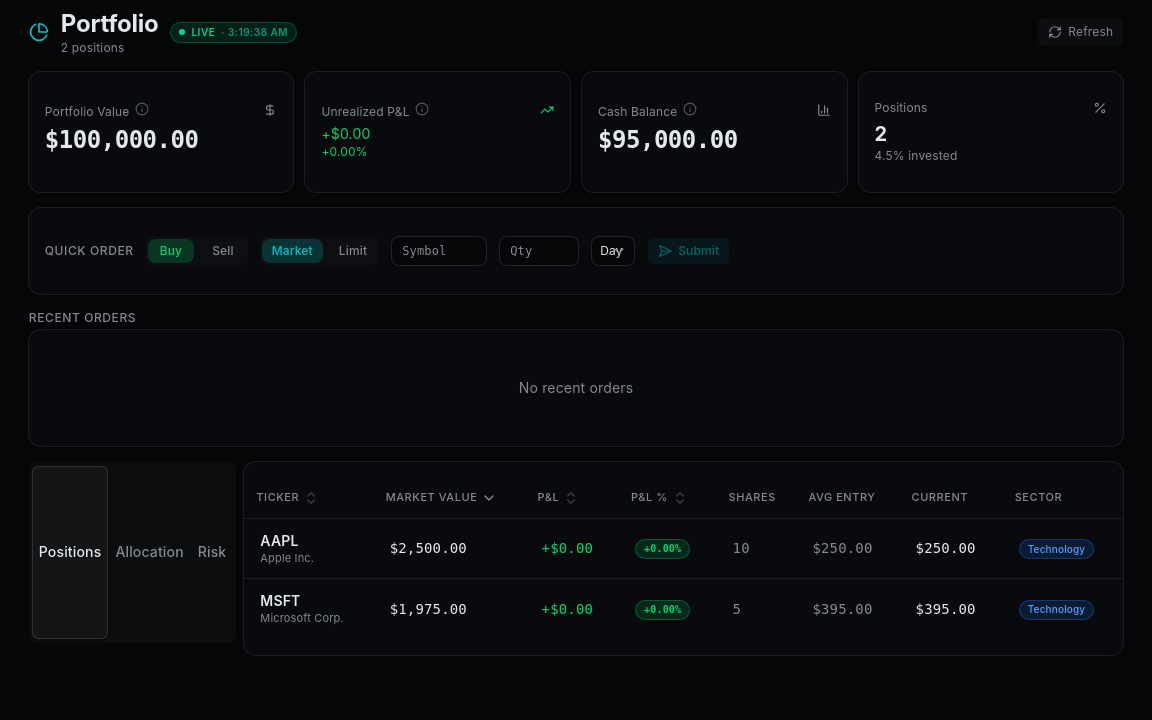
Test case: PortfolioPage › handles rejected order status with meaningful message
The image size is (1152, 720).
Expected: the text "Quick Order" is shown, [45,243,134,259]
Type "TSLA" into the field with placeholder "Symbol" at point(439, 251), box [391,236,487,266]
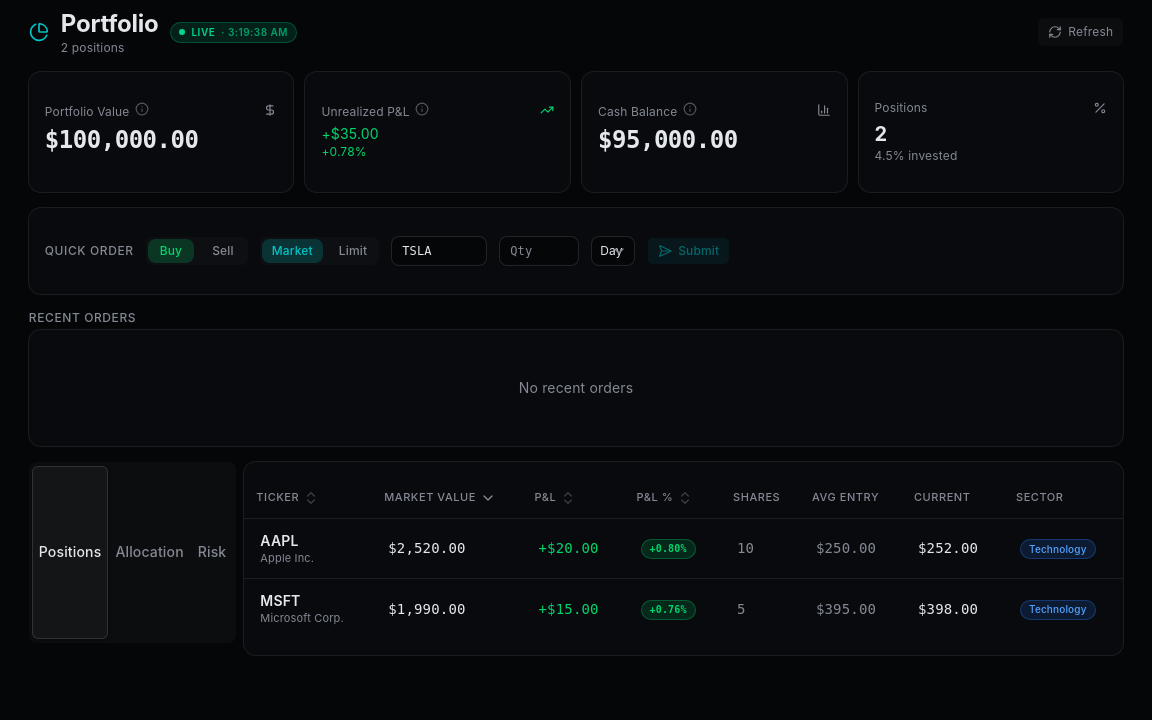
Type "5" into the number field with placeholder "Qty" at point(539, 251), box [499,236,579,266]
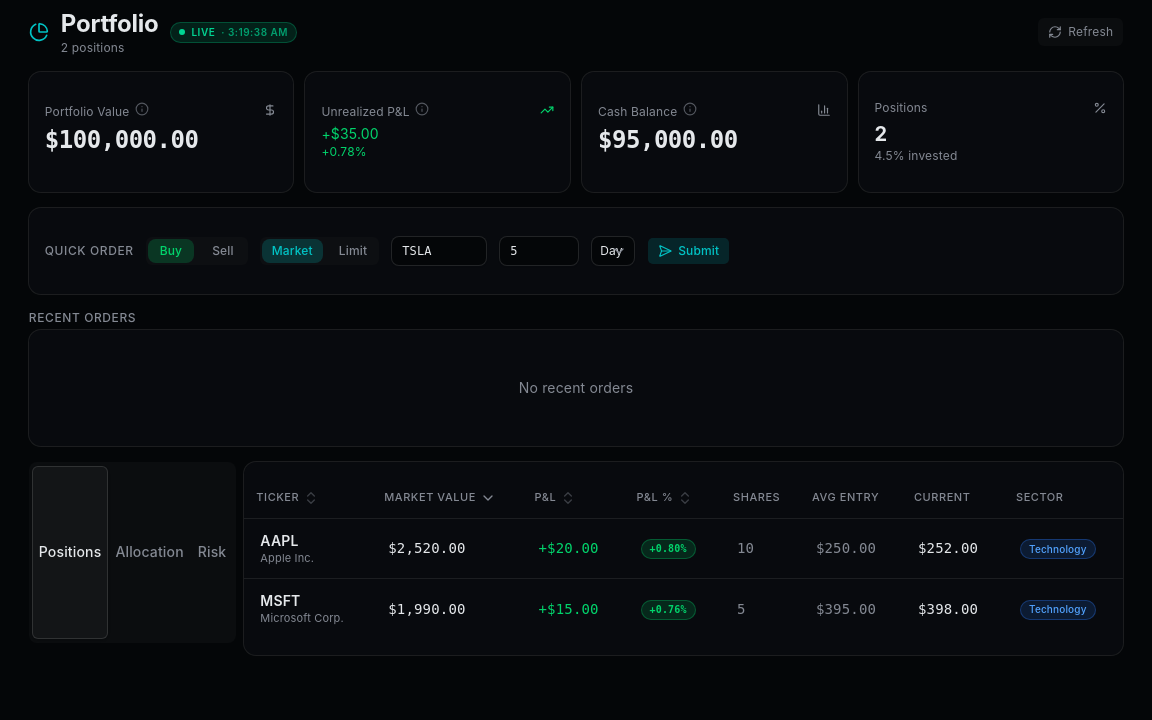
Click the button "Submit" at point(689, 251), box [647,237,730,265]
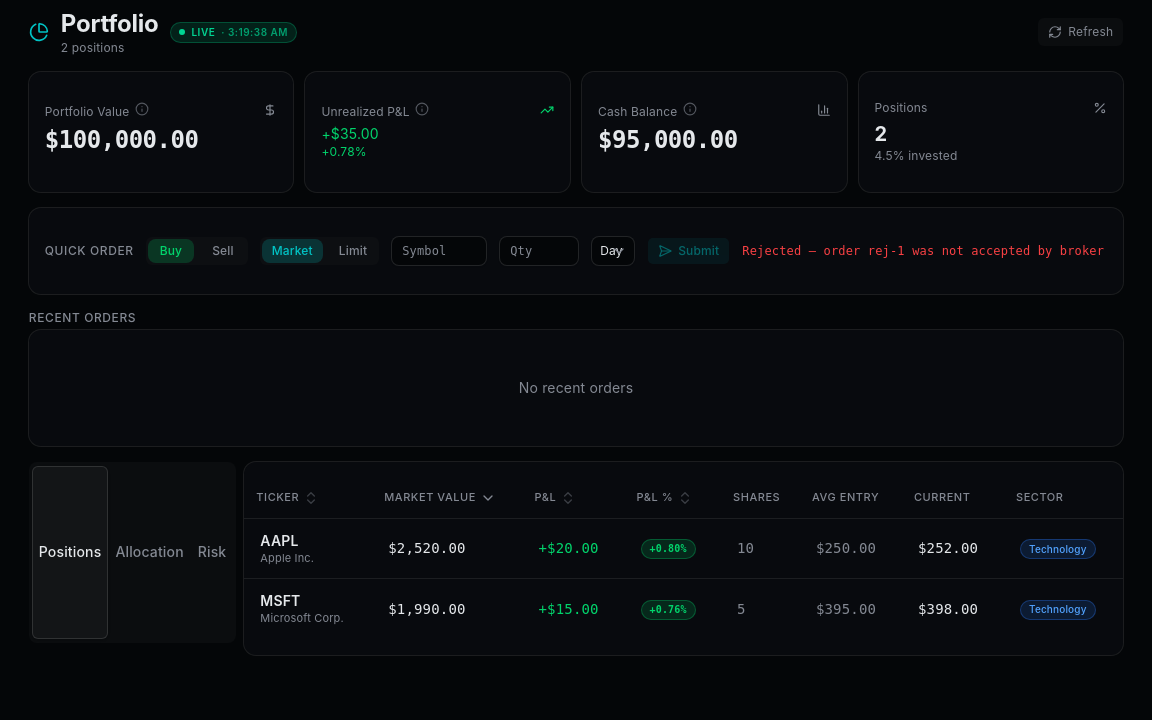
Expected: the text "Rejected — order rej-1 was not accepted by broker" is shown, [742,243,1104,259]
